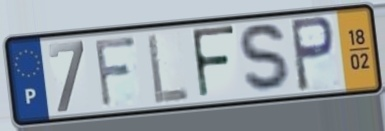7: (47, 39, 87, 114)
F: (189, 23, 239, 102), (92, 33, 139, 110)
L: (145, 31, 192, 107)
P: (287, 14, 337, 94)
S: (236, 21, 296, 97)
